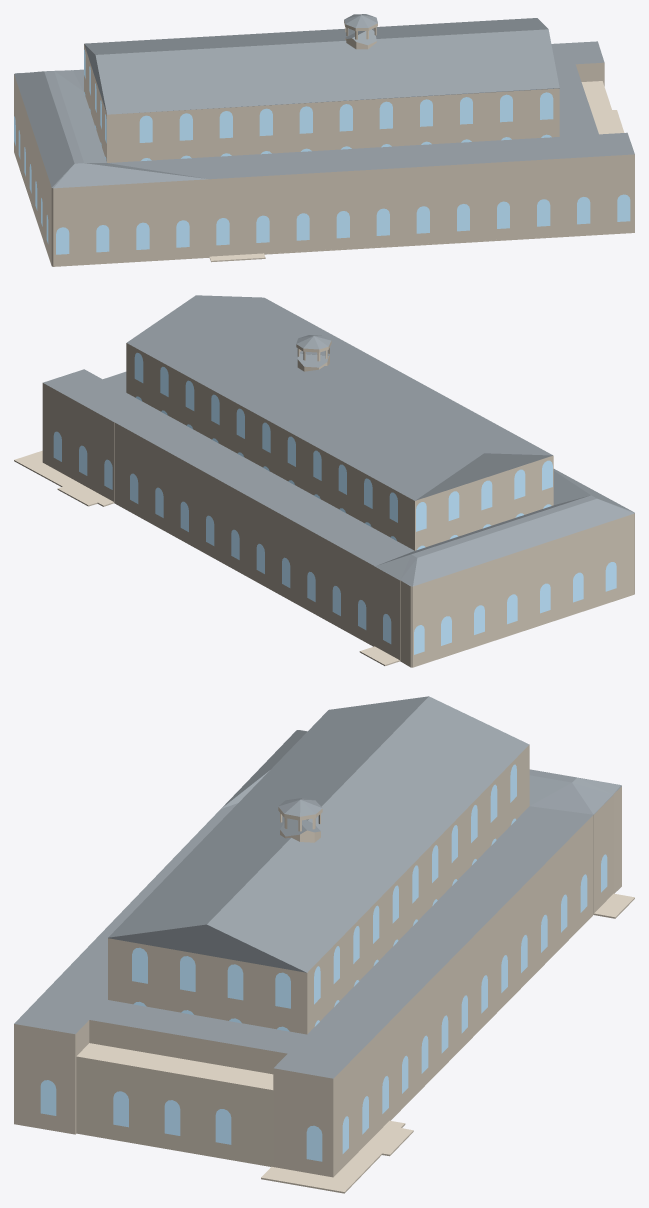
The picture shows the model from 3 angles, top to bottom: view 1: azimuth 30°, elevation 25°; view 2: azimuth 150°, elevation 25°; view 3: azimuth 270°, elevation 25°; orthographic projection. The views are drawn at different scales.
Visible parts, largest first — view 1: stone, roof, window; view 2: stone, roof, window; view 3: roof, stone, window.
Boxes of the visible parts, x1,y1,x2,y2 form: stone: [14, 20, 634, 266]; roof: [14, 14, 634, 188]; window: [14, 49, 630, 254]; stone: [14, 341, 634, 667]; roof: [43, 295, 634, 586]; window: [53, 352, 616, 654]; roof: [14, 696, 621, 1078]; stone: [14, 745, 634, 1193]; window: [40, 764, 607, 1161].
Bounding box in the file's own units: 101 × 29 × 72.93.
